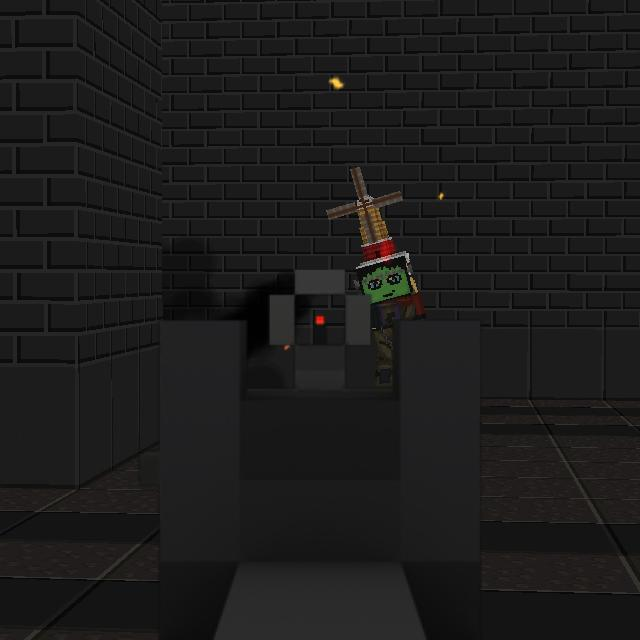enemy: (327, 164, 426, 389)
